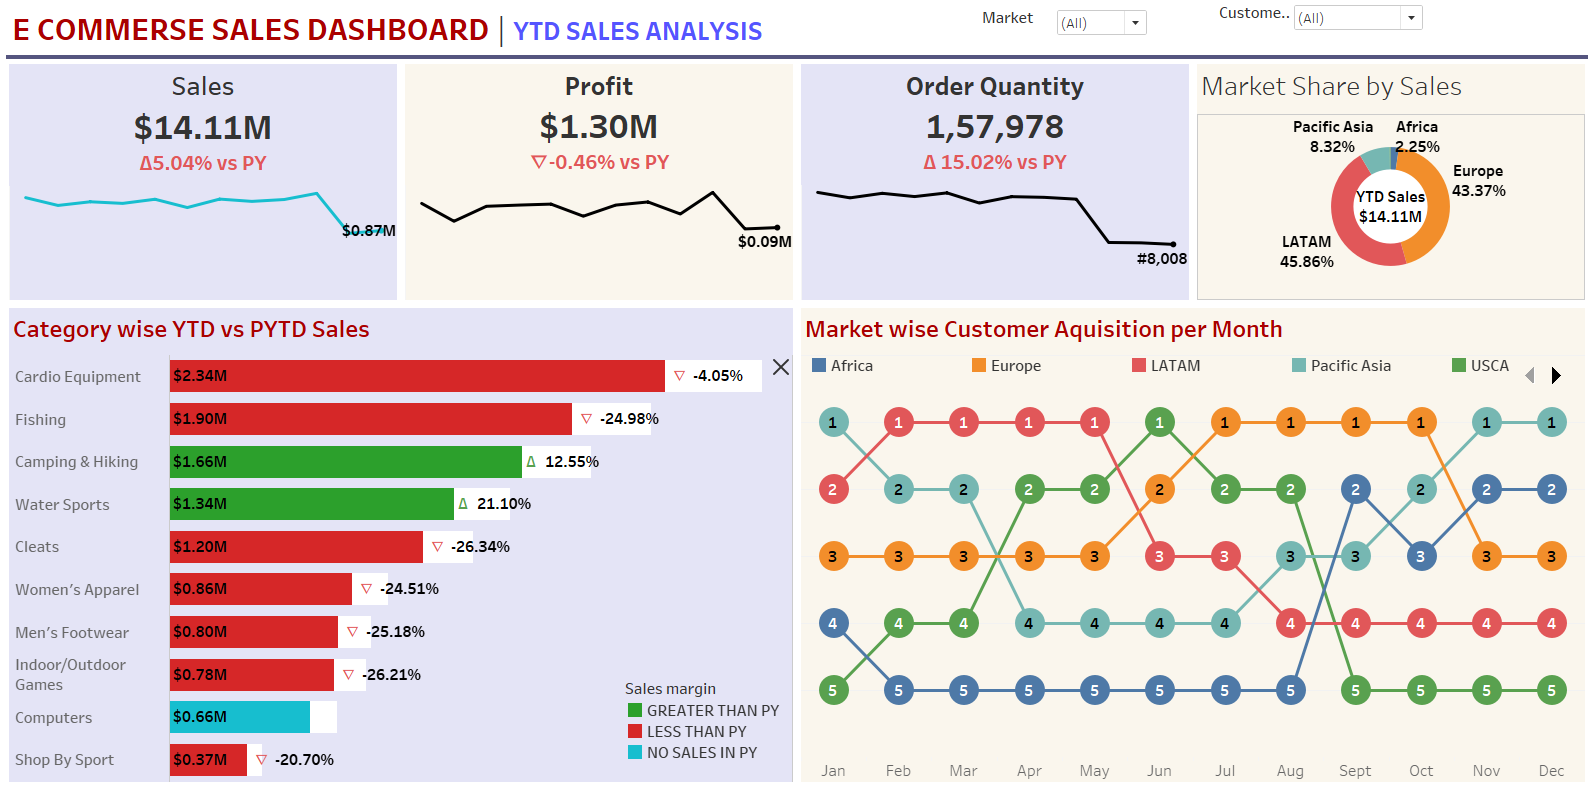

The dashboard page shown, as its layout file describes it:
{"tool":"tableau","page":{"name":"Dashboard 1","canvas":[1600,800],"ordinal":0},"visuals":[{"type":"title","box":[8,8,1584,52]},{"type":"filter","title":"Sales KPI","param":"[federated.1br89ap0emhkew19th12j0ryxt5b].[none:Customer Segment:nk]","box":[1222,8,207,39]},{"type":"filter","title":"Sales KPI","param":"[federated.1br89ap0emhkew19th12j0ryxt5b].[none:Market:nk]","box":[985,13,168,39]},{"type":"blank","box":[8,60,1584,6]},{"type":"worksheet","title":"Sales KPI","mark":"Automatic","rows":["Sales"],"cols":["Order Date"],"box":[8,66,396,244]},{"type":"worksheet","title":"Profit KPI","mark":"Automatic","rows":["Profit Per Order"],"cols":["Order Date"],"box":[404,66,396,244]},{"type":"worksheet","title":"Order Quantity KPI","mark":"Automatic","rows":["Order Quantity"],"cols":["Order Date"],"box":[800,66,396,244]},{"type":"worksheet","title":"Market Share by Sales","mark":"Pie","cols":["Calculation_1240178812077907982","Calculation_1240178812077948944"],"box":[1196,66,396,244]},{"type":"worksheet","title":"Category wise YTD vs PYTD Sales","mark":"Bar","rows":["Category Name"],"cols":["Calculation_1240178812080467985","Calculation_1240178812080467985"],"box":[8,310,792,482]},{"type":"worksheet","title":"Market wise Customer Aquisition per Month","mark":"Automatic","cols":["Order Date"],"box":[800,310,792,482]},{"type":"dashboard-object","box":[772,361,24,24]},{"type":"legend","title":"Market wise Customer Aquisition per Month","param":"[federated.1br89ap0emhkew19th12j0ryxt5b].[none:Market:nk]","box":[812,361,762,40]},{"type":"legend","title":"Category wise YTD vs PYTD Sales","param":"[federated.1br89ap0emhkew19th12j0ryxt5b].[usr:Calculation_1240178812110258196:nk","box":[628,684,159,85]}]}

Visuals, with their boxes in screenshot pixels (x1, y1, x2, y2), scaled from the page's 1600x800 canvas onto the 1591x786 screenshot:
title: region(8, 8, 1583, 59)
"Sales KPI" filter: region(1215, 8, 1421, 46)
"Sales KPI" filter: region(979, 13, 1147, 51)
blank: region(8, 59, 1583, 65)
"Sales KPI" worksheet: region(8, 65, 402, 305)
"Profit KPI" worksheet: region(402, 65, 796, 305)
"Order Quantity KPI" worksheet: region(796, 65, 1189, 305)
"Market Share by Sales" worksheet (Pie marks): region(1189, 65, 1583, 305)
"Category wise YTD vs PYTD Sales" worksheet (Bar marks): region(8, 305, 796, 778)
"Market wise Customer Aquisition per Month" worksheet: region(796, 305, 1583, 778)
dashboard-object: region(768, 355, 792, 378)
"Market wise Customer Aquisition per Month" legend: region(807, 355, 1565, 394)
"Category wise YTD vs PYTD Sales" legend: region(624, 672, 783, 756)
